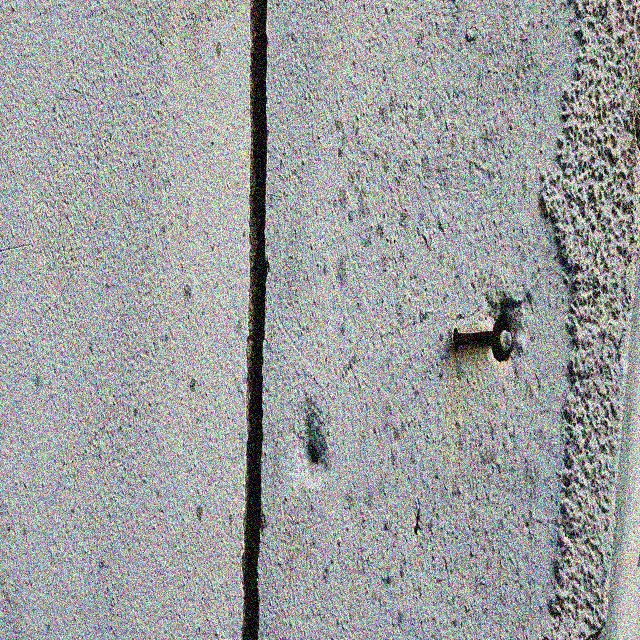SurfaceCrack: (483, 0, 635, 639), (195, 0, 319, 640)
